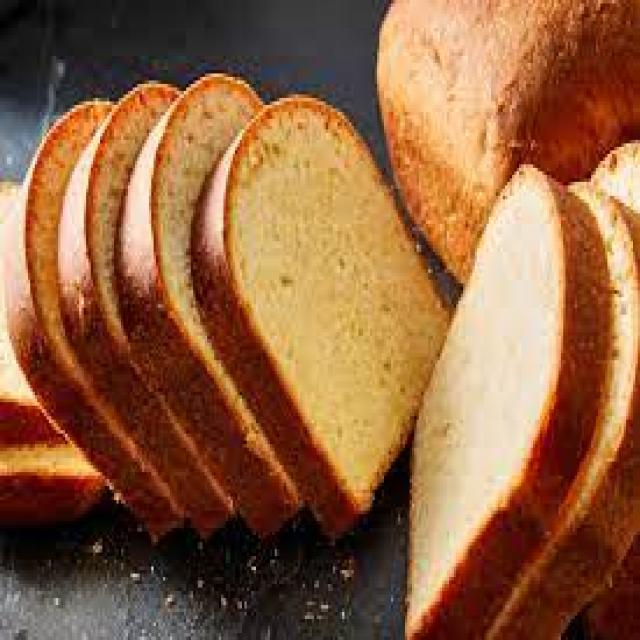Bread: (195, 98, 450, 534), (406, 171, 609, 636), (119, 75, 295, 533), (57, 85, 233, 533), (10, 101, 185, 536), (485, 190, 640, 638)
